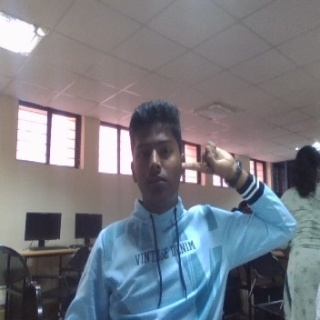Deaf: (181, 139, 236, 179)
Face: (128, 100, 185, 207)
